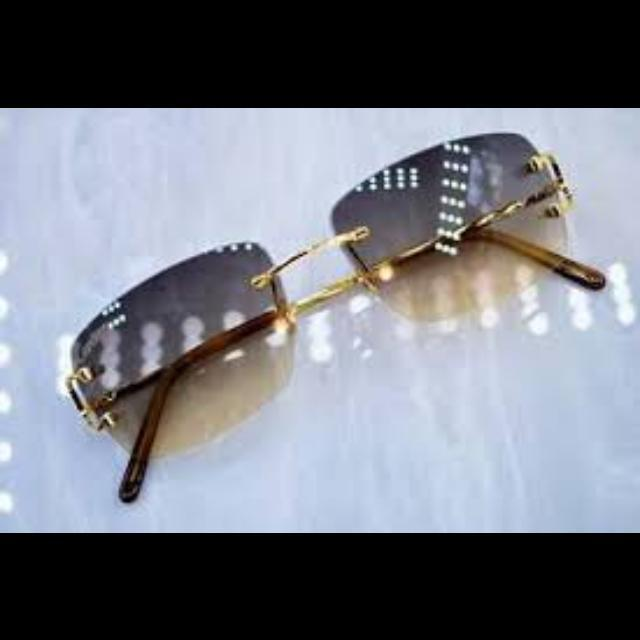glasses: (60, 131, 608, 503)
